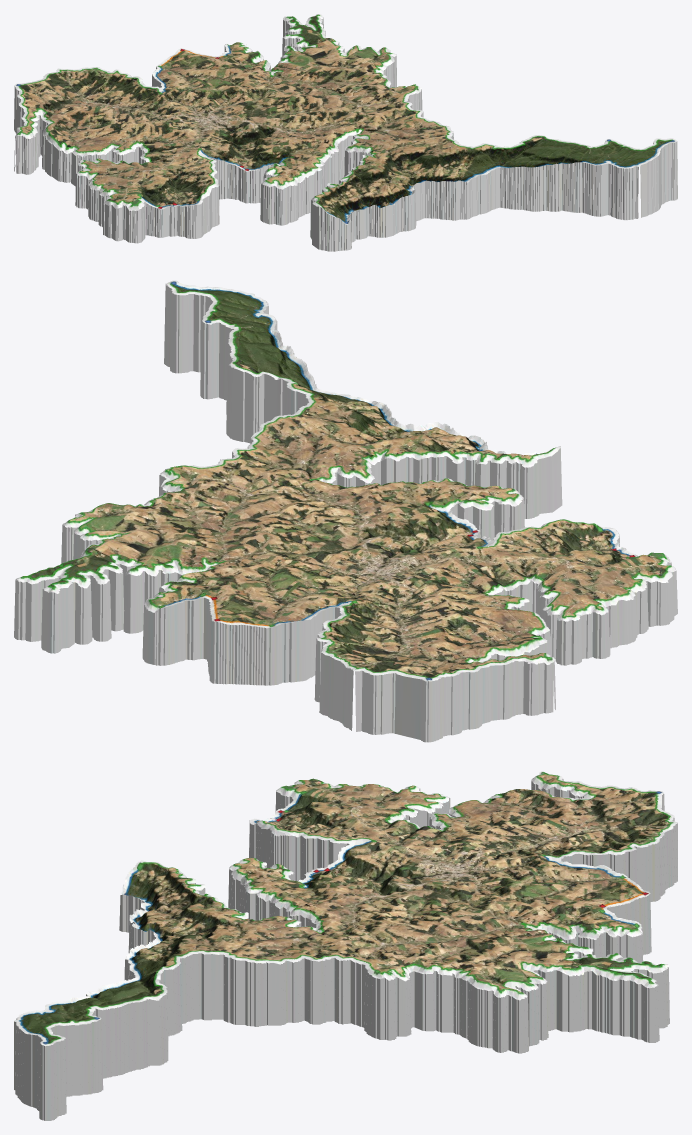
The picture shows the model from 3 angles, top to bottom: view 1: azimuth 30°, elevation 25°; view 2: azimuth 150°, elevation 25°; view 3: azimuth 270°, elevation 25°; orthographic projection. The views are drawn at different scales.
Size of the model in its own units: 1 by 0.1167 by 0.9332.
Materials: 1 (1 with a texture image).
